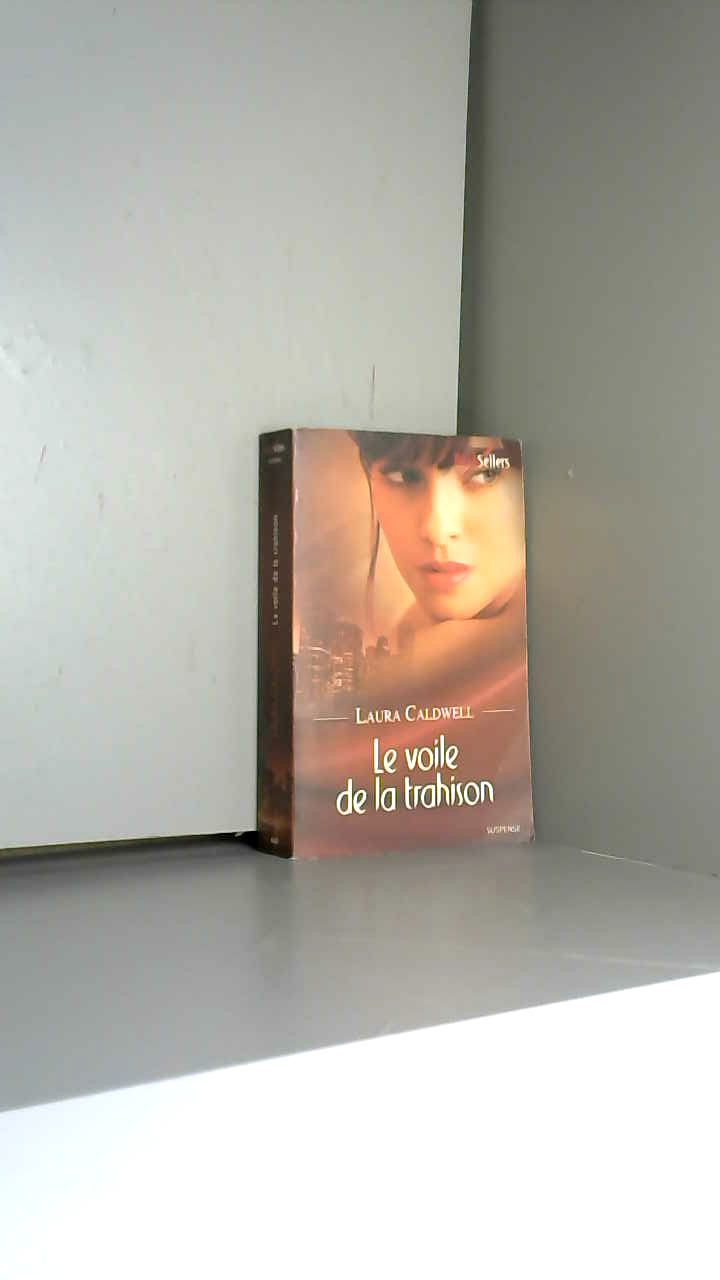book: (241, 414, 550, 873)
